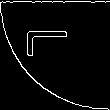L_E: (30, 40, 80, 70)
